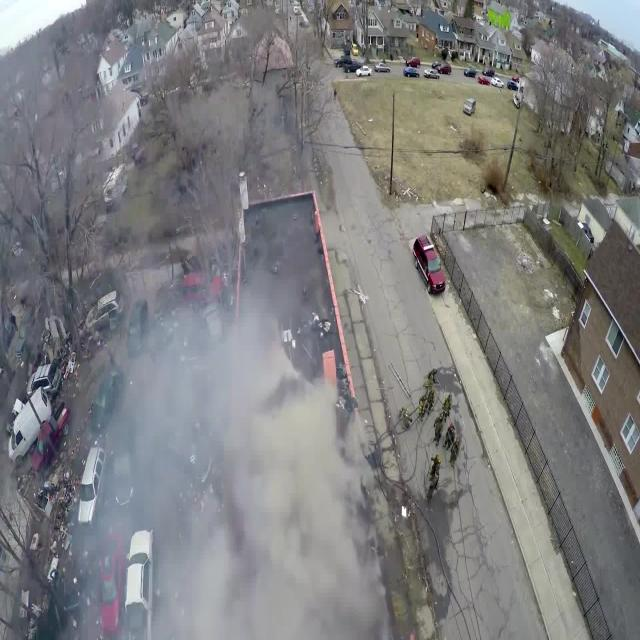Smoke: (53, 276, 389, 640)
